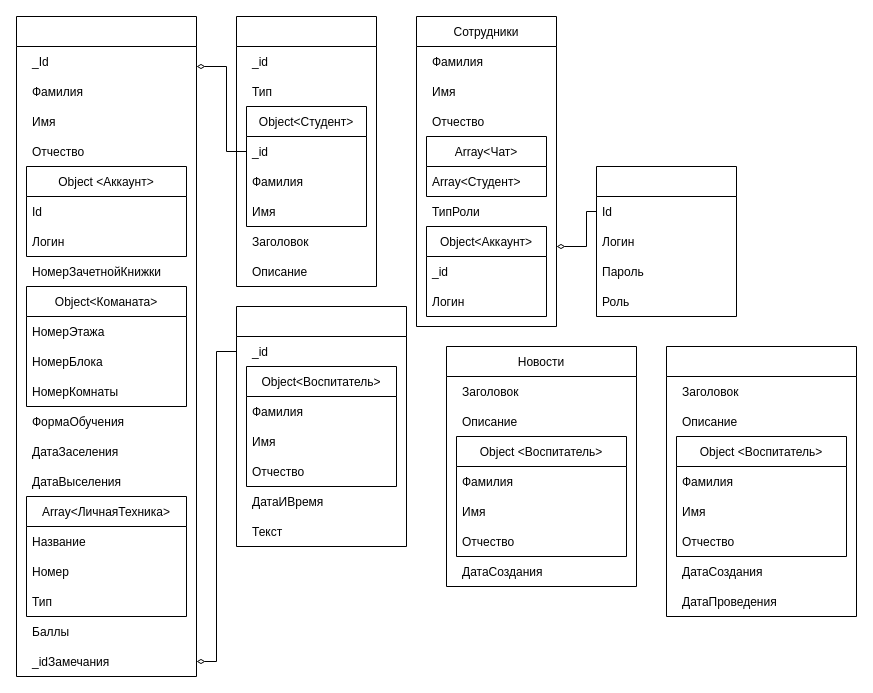
The diagram is 873 pixels wide and 693 high, and some of its shapes have lost their labels. Each missing label, with the box of its shape:
Аккаунты: (596, 166, 736, 316)
Замечания: (236, 306, 406, 546)
Заявки: (236, 16, 376, 286)
Мероприятия: (666, 346, 856, 616)
Студент: (16, 16, 196, 676)
